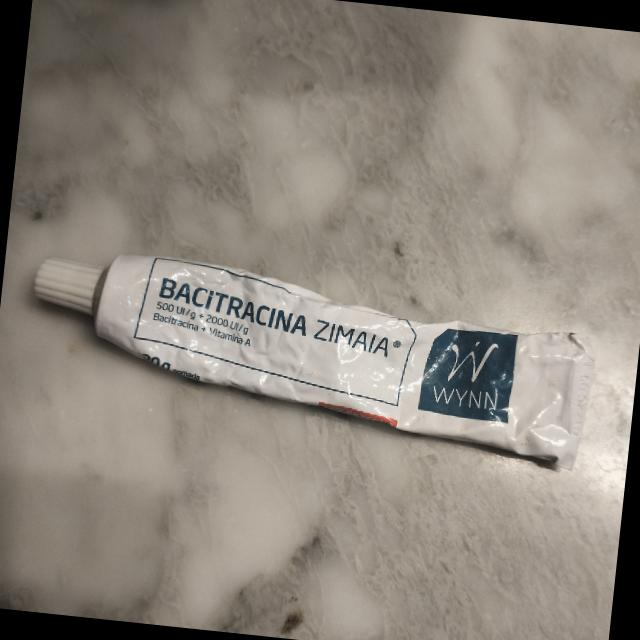tubo: (18, 238, 606, 477)
